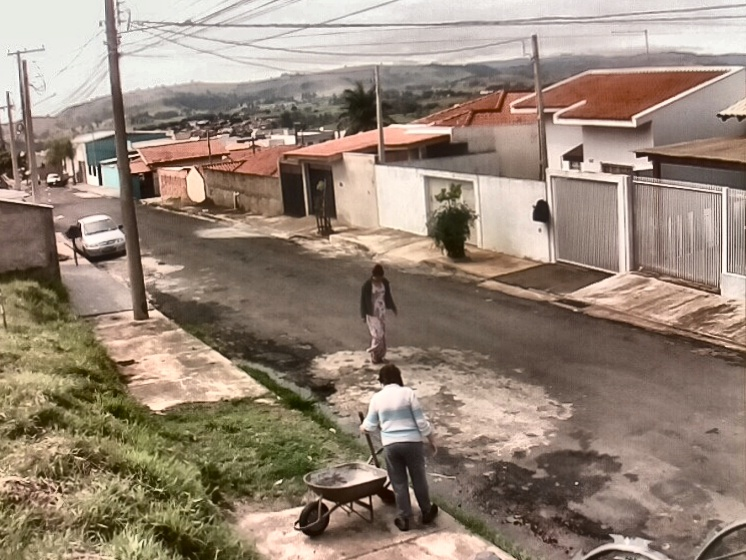person: (358, 365, 437, 531), (359, 262, 400, 364)
